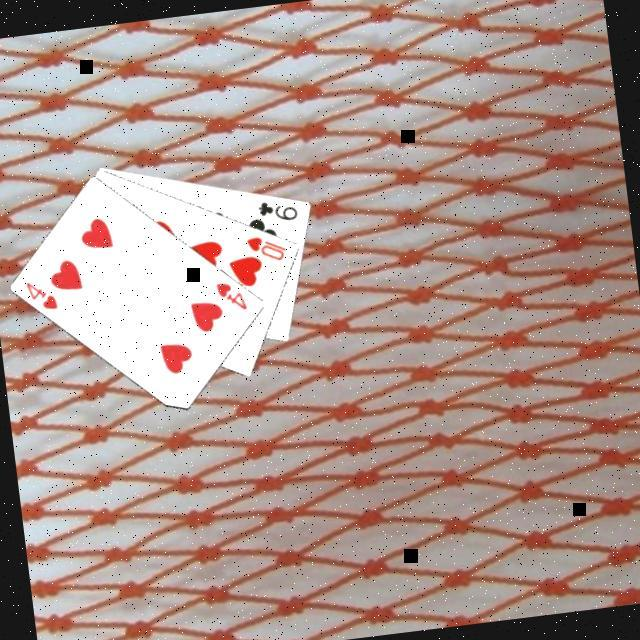10H: (241, 230, 290, 267)
4H: (211, 276, 251, 318), (21, 276, 61, 316)
9C: (253, 195, 301, 228)
